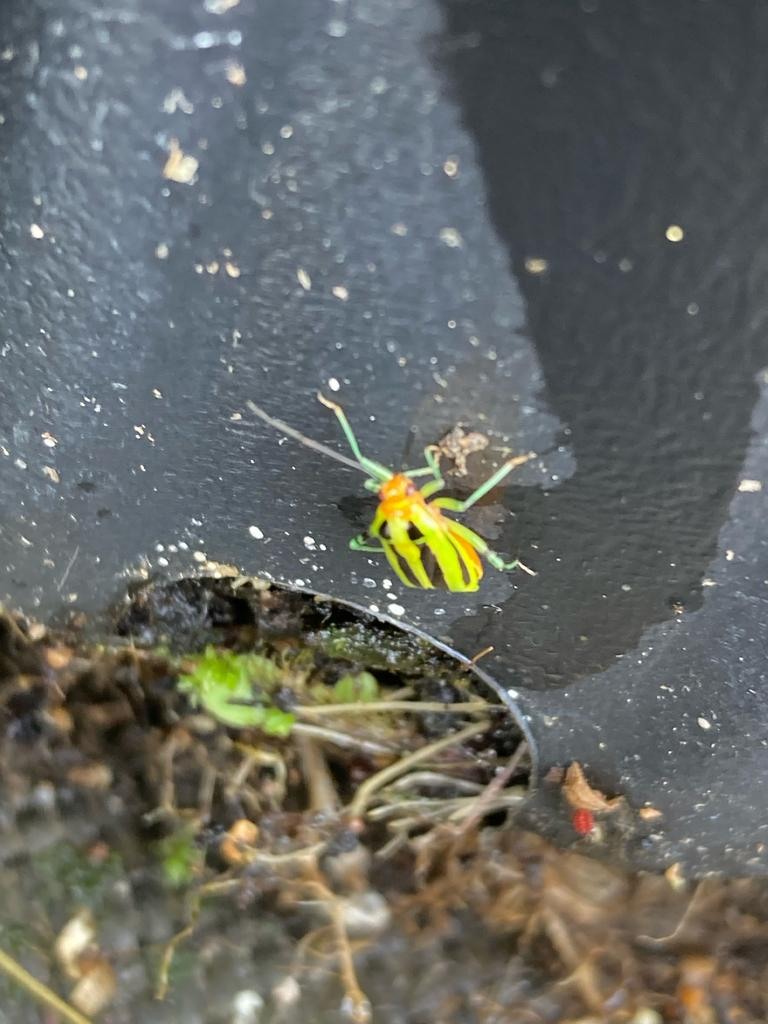plant_bugs: (287, 360, 561, 627)
